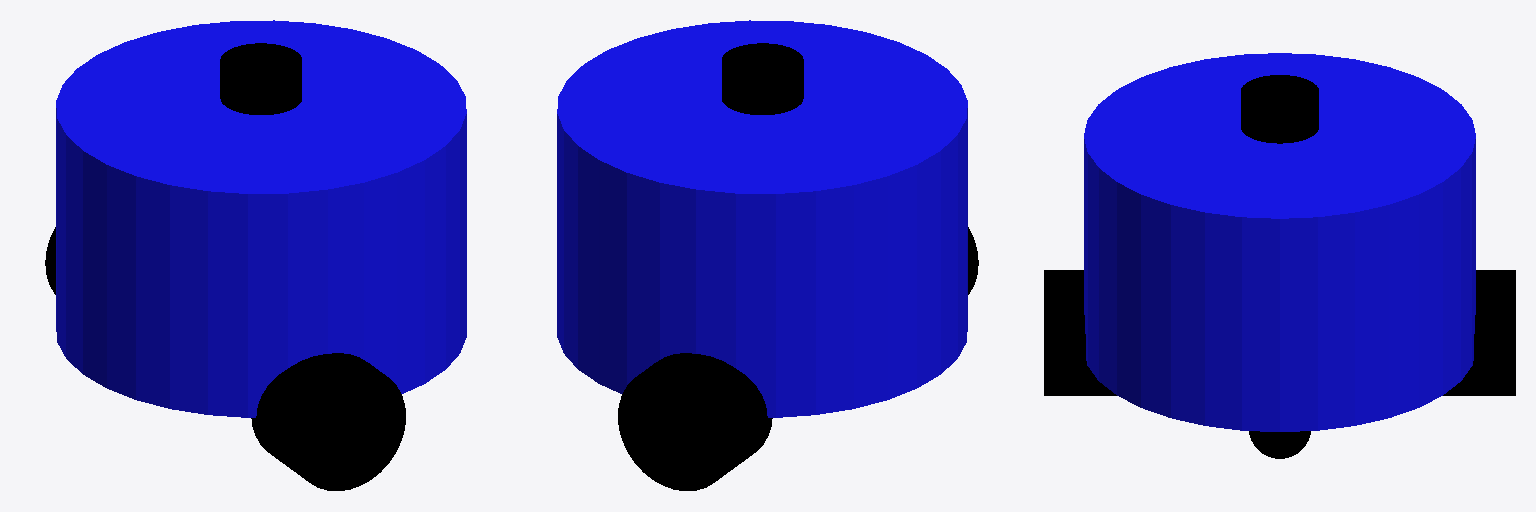
The robot description file, URDF, robot "bot":
<?xml version="1.0"?>
<robot name="bot">
    
  <!-- base link -->
  <link name="base_link">
  	<visual>
      <origin xyz="0 0 0.0" rpy="0 0 0"/>
      <geometry>
		<cylinder length="0.12" radius="0.10"/>
      </geometry>
      <material name="blue">
      	<color rgba="0.1 0.1 1.0 0.5" /> 
      </material>
    </visual>
  </link>
    
  <!-- laser link -->
  <link name="laser_link">
  	<visual>
      <origin xyz="0 0 0" rpy="0 0 0"/>
      <geometry>
		<cylinder length="0.02" radius="0.02"/>
      </geometry>
      <material name="black">
      	<color rgba="0.0 0.0 0.0 0.5" /> 
      </material>
    </visual>
  </link>
    
  <!-- laser joint -->
  <joint name="laser_joint" type="fixed">
      <parent link="base_link" />
      <child link="laser_link" />
      <origin xyz="0 0 0.075" />
  </joint>

  <link name="imu_link">
  	<visual>
      <origin xyz="0 0 0.0" rpy="0 0 0"/>
      <geometry>
		    <box size="0.02 0.02 0.02"/>
      </geometry>
    </visual>
  </link>

  <!-- imu joint -->
  <joint name="imu_joint" type="fixed">
      <parent link="base_link" />
      <child link="imu_link" />
      <origin xyz="0 0 0.02" />
  </joint>


  <link name="left_wheel_link">
      <visual>
        <origin xyz="0 0 0" rpy="1.57079 0 0"/>
        <geometry>
          <cylinder length="0.04" radius="0.032"/>
        </geometry>
          <material name="black">
            <color rgba="0.0 0.0 0.0 0.5" /> 
          </material>
      </visual>
  </link>
    
  <joint name="left_wheel_joint" type="continuous">
      <parent link="base_link" />
      <child link="left_wheel_link" />
      <origin xyz="-0.02 0.10 -0.06" />
      <axis xyz="0 1 0" />
  </joint>

  <link name="right_wheel_link">
      <visual>
        <origin xyz="0 0 0" rpy="1.57079 0 0"/>
        <geometry>
          <cylinder length="0.04" radius="0.032"/>
        </geometry>
          <material name="black">
            <color rgba="0.0 0.0 0.0 0.5" /> 
          </material>
      </visual>
  </link>
    
  <joint name="right_wheel_joint" type="continuous">
      <parent link="base_link" />
      <child link="right_wheel_link" />
      <origin xyz="-0.02 -0.10 -0.06" />
      <axis xyz="0 1 0" />
  </joint>

  <link name="caster_link">
    <visual>
      <origin xyz="0 0 0" rpy="1.57079 0 0"/>
      <geometry>
          <sphere radius="0.016"/>
      </geometry>
        <material name="black">
          <color rgba="0.0 0.0 0.0 0.5" /> 
        </material>
    </visual>
  </link>
    
  <joint name="caster_joint" type="fixed">
      <parent link="base_link" />
      <child link="caster_link" />
      <origin xyz="0.06 0.0 -0.076" />
      <axis xyz="0 1 0" />
  </joint>



</robot>

--- Render facts (derived) ---
The picture shows the robot from 3 angles, left to right: view 1: azimuth 30°, elevation 25°; view 2: azimuth 150°, elevation 25°; view 3: azimuth 270°, elevation 25°; orthographic projection.
Robot: bot — 6 links, 5 joints (2 continuous, 3 fixed); root link base_link; default pose: all joints at 0.
Links seen in each view (by area): view 1: base_link, right_wheel_link, laser_link; view 2: base_link, left_wheel_link, laser_link; view 3: base_link, left_wheel_link, right_wheel_link, laser_link, caster_link.
Link boxes in pixels (x1=…): base_link: x1=56, y1=20, x2=466, y2=417; right_wheel_link: x1=251, y1=353, x2=405, y2=490; laser_link: x1=220, y1=43, x2=301, y2=114; base_link: x1=557, y1=20, x2=967, y2=417; left_wheel_link: x1=618, y1=353, x2=772, y2=490; laser_link: x1=722, y1=43, x2=803, y2=114; base_link: x1=1084, y1=53, x2=1475, y2=431; left_wheel_link: x1=1443, y1=270, x2=1515, y2=395; right_wheel_link: x1=1044, y1=270, x2=1116, y2=395; laser_link: x1=1241, y1=75, x2=1318, y2=143; caster_link: x1=1249, y1=431, x2=1310, y2=458.
Bounding box of the posed robot: 0.2 × 0.24 × 0.177 m (x, y, z).
Geometry: primitives only (box / cylinder / sphere), no mesh files.